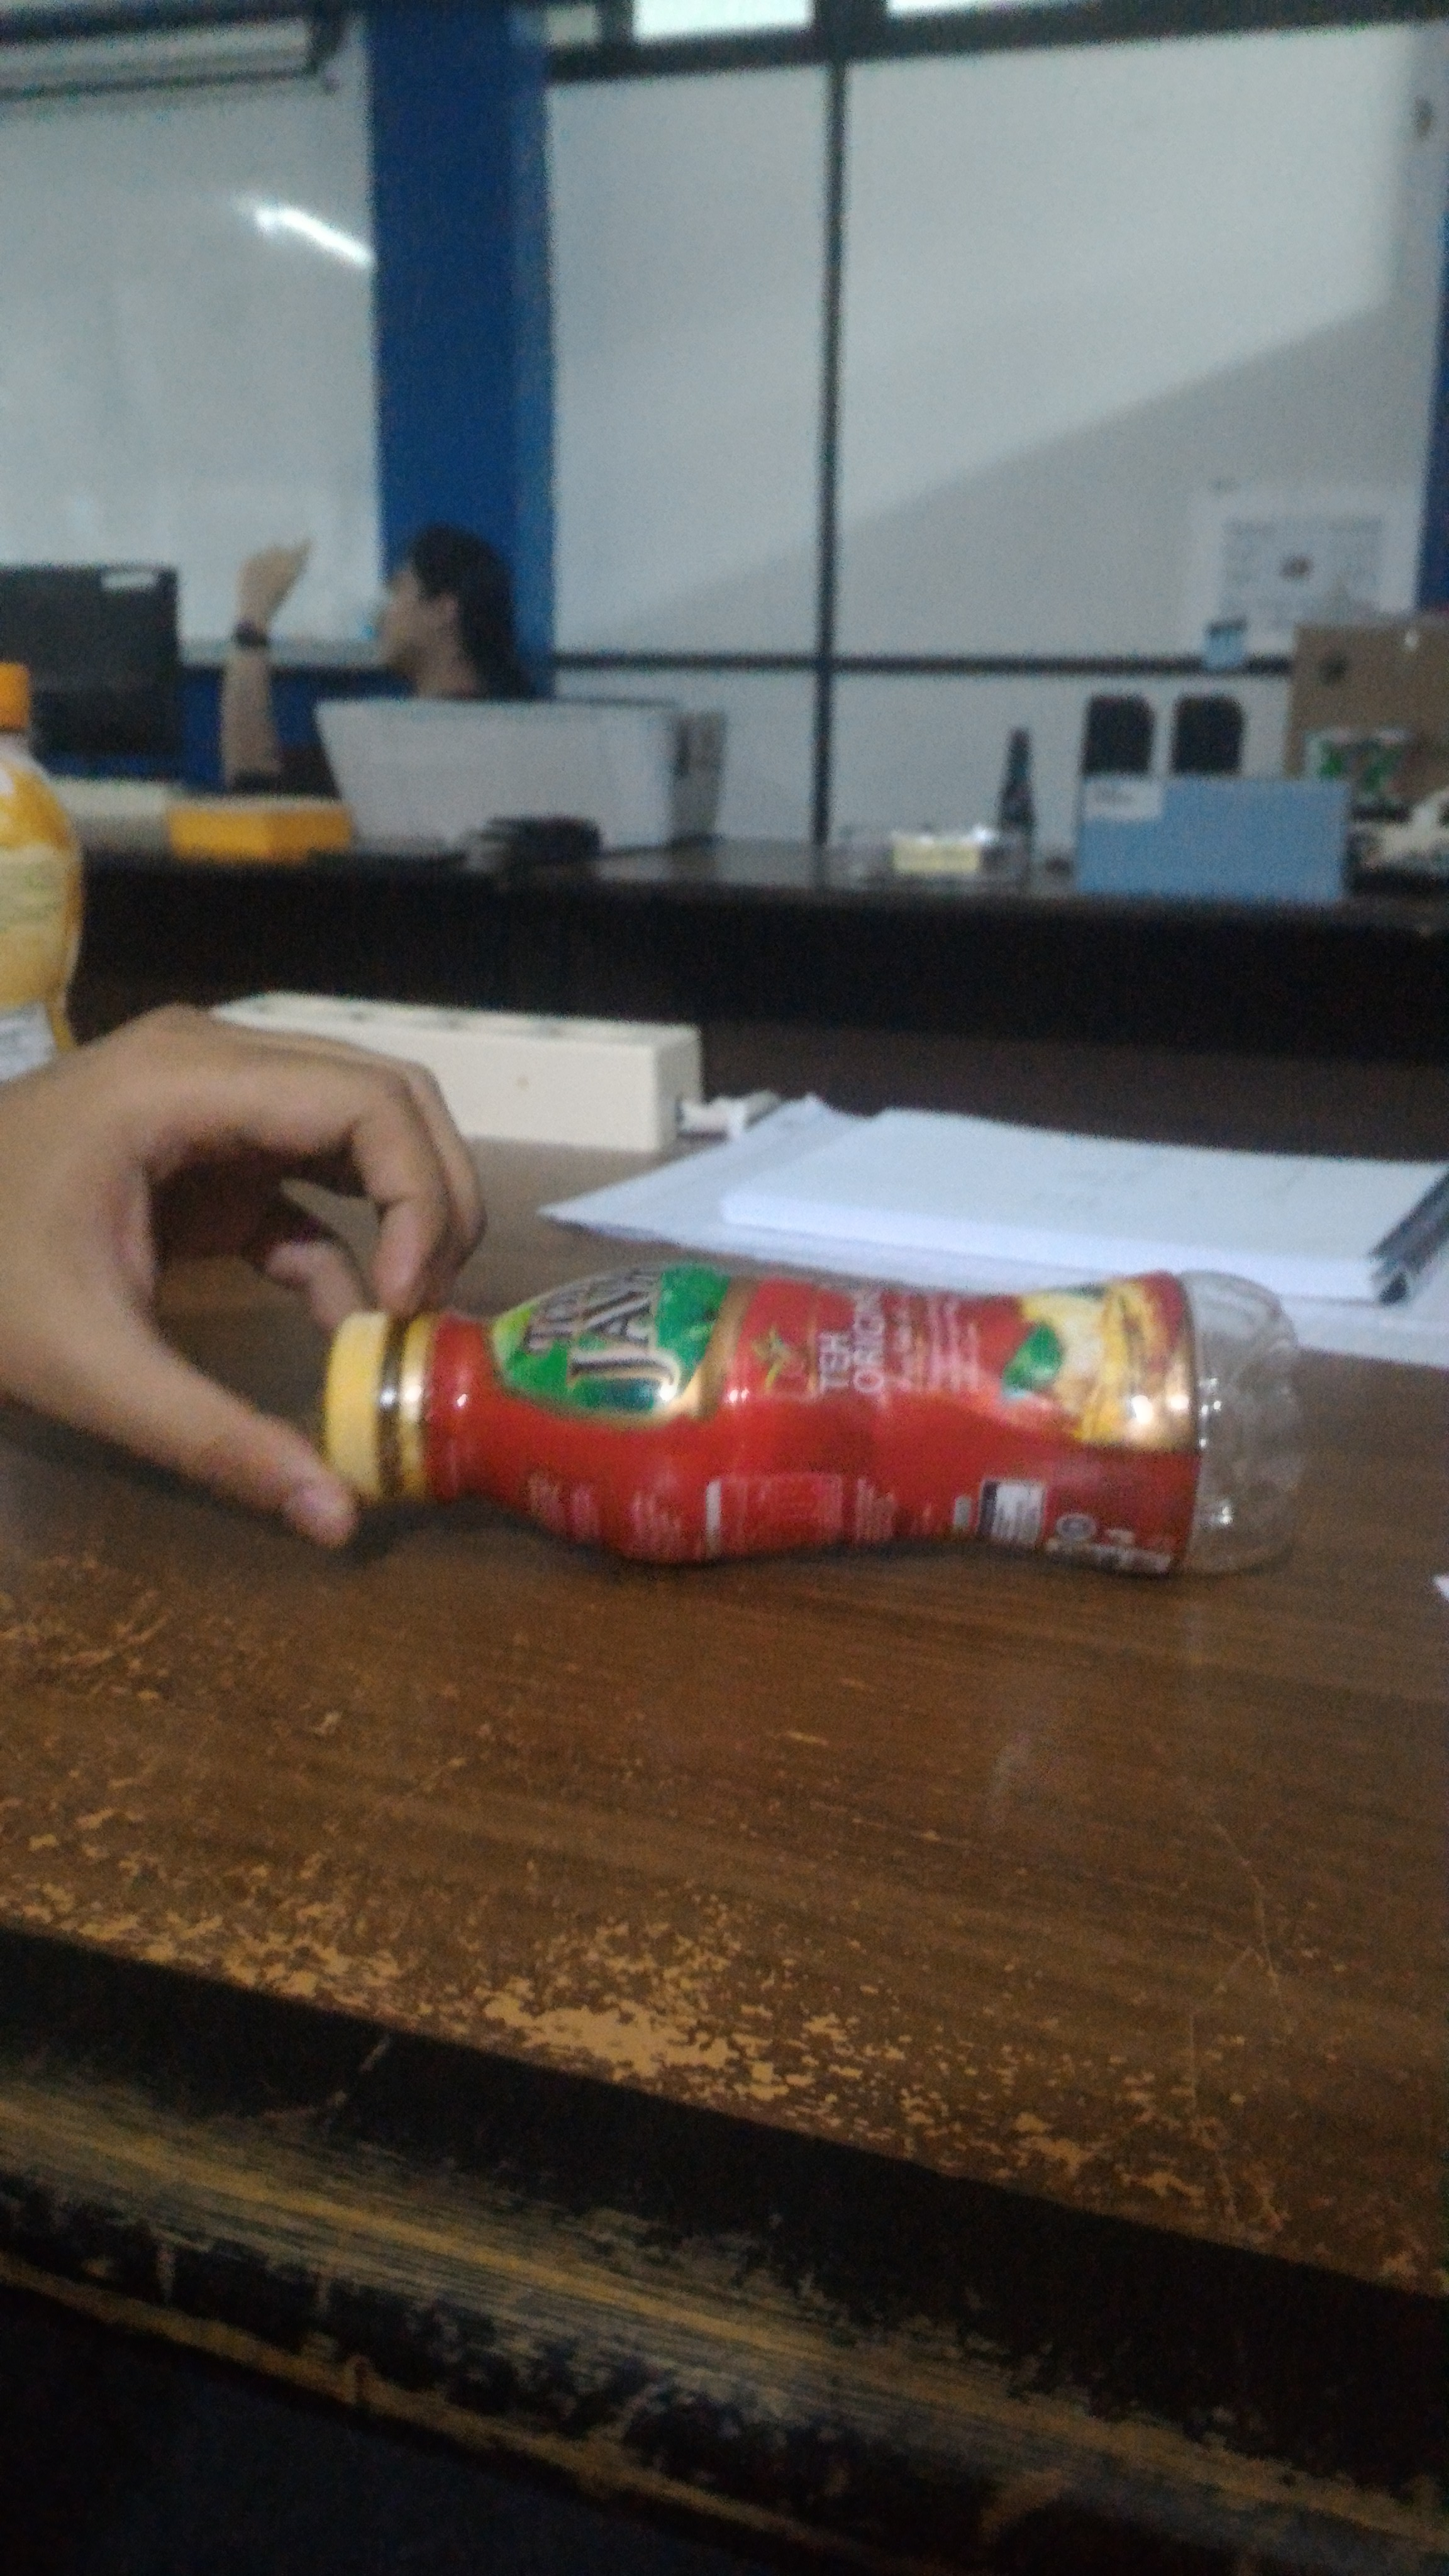botol: (290, 1269, 1311, 1573), (290, 1269, 1307, 1569)
